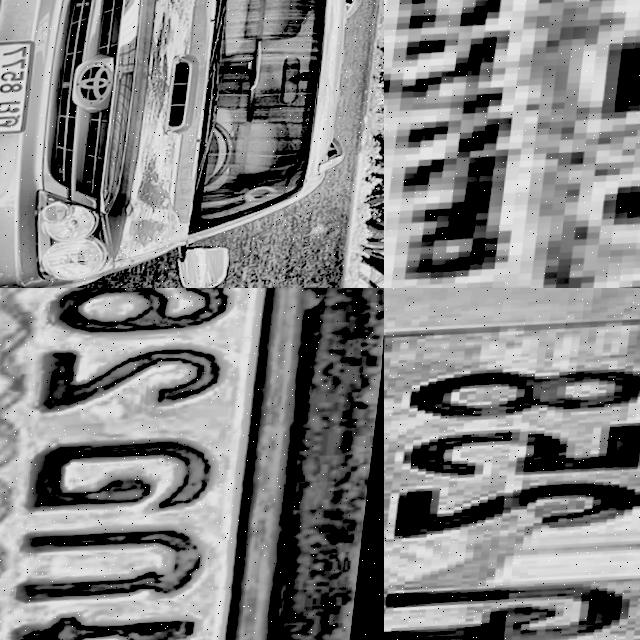license-plate: (0, 288, 354, 640), (384, 288, 640, 640), (384, 0, 640, 288), (0, 36, 47, 148)
